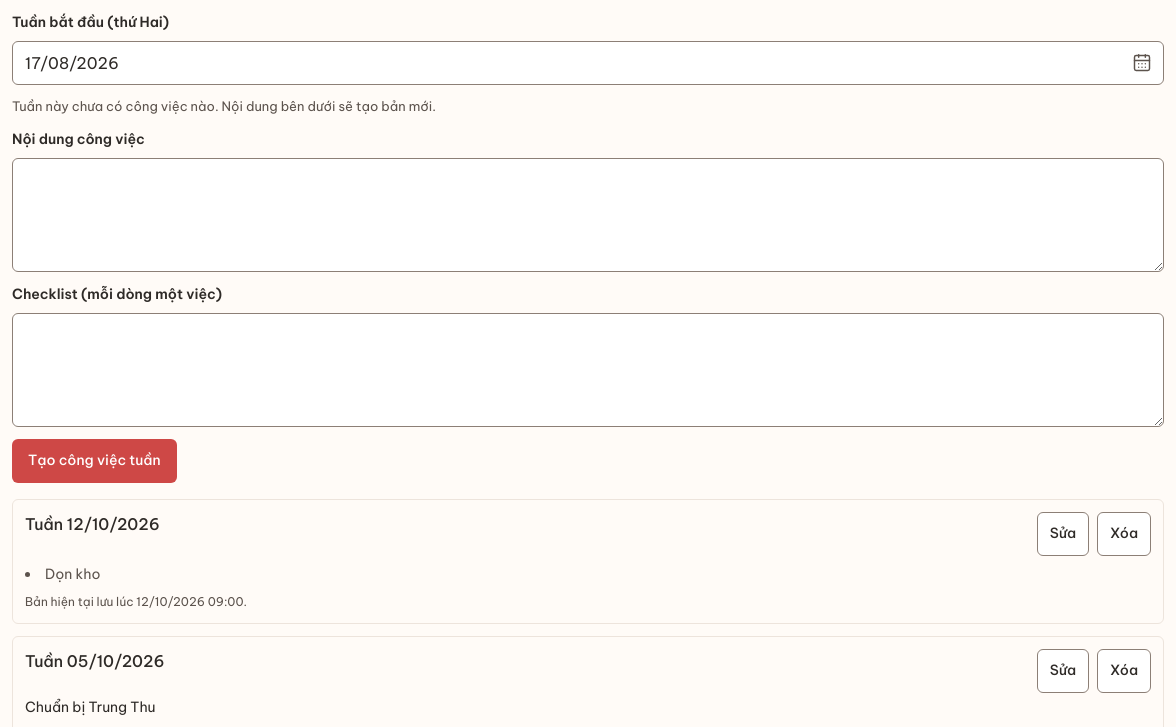
Test case: WeeklyPlanEditor — chống ghi đè mù (F11) › bấm Sửa trên một bản trong danh sách sẽ nạp bản đó vào form
Click the 2nd button "Sửa": (1063, 670) [1037,648,1089,692]
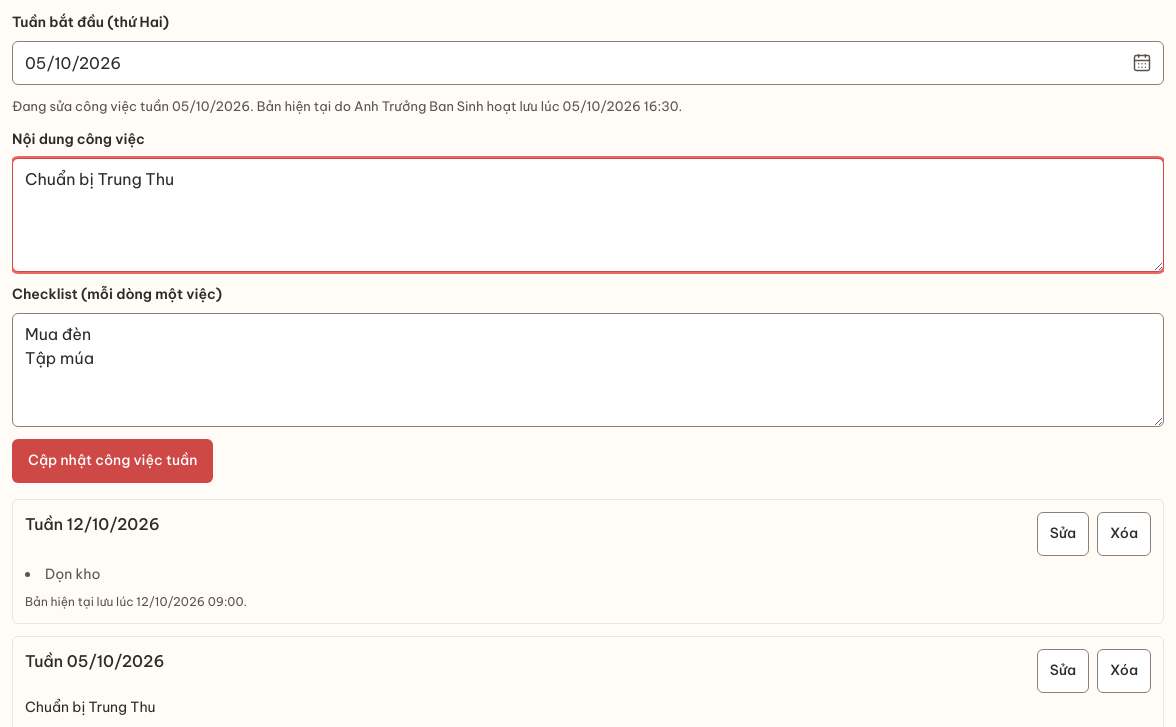
Expected: the element named "weekStart" holds "2026-10-05", [12,12,1164,85]
Result: the field labelled "Tuần bắt đầu (thứ Hai)" holds "05/10/2026" at [12,41,1164,85]
Result: the text box labelled "Nội dung công việc" holds "Chuẩn bị Trung Thu" at [12,158,1164,272]
